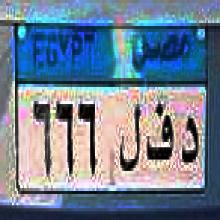6: (76, 97, 98, 177), (54, 99, 74, 180), (32, 99, 52, 175)
daal: (178, 108, 200, 174)
faa: (145, 99, 175, 172)
laam: (117, 102, 142, 177)
